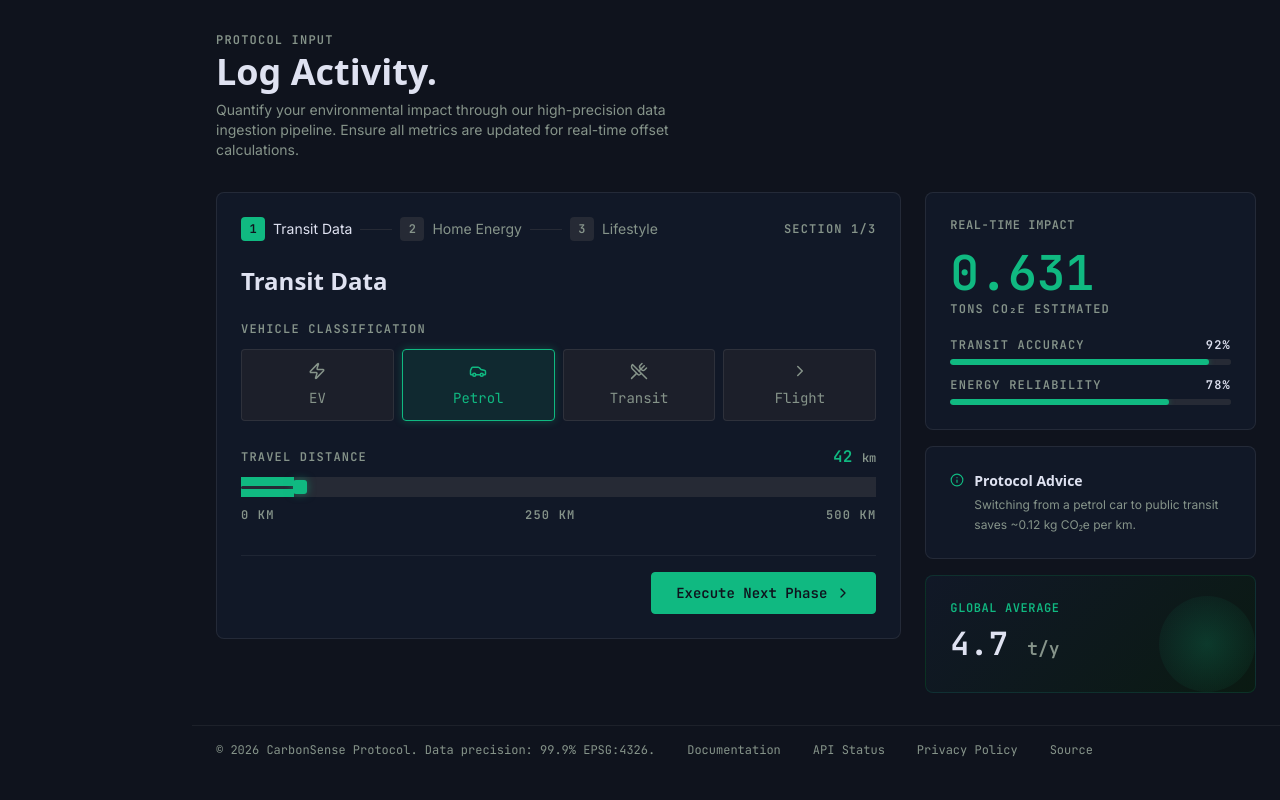
Scenario: ActivityWizard — Transit slider integration › changing transit slider updates the Real-Time Impact preview block
This screenshot has width=1280, height=800.
Expected: the text "0.631" is shown, [950, 241, 1094, 304]
Set slider to 0
Set the slider named "log daily transit distance" to "0" at x=249, y=487, box [241, 477, 876, 497]
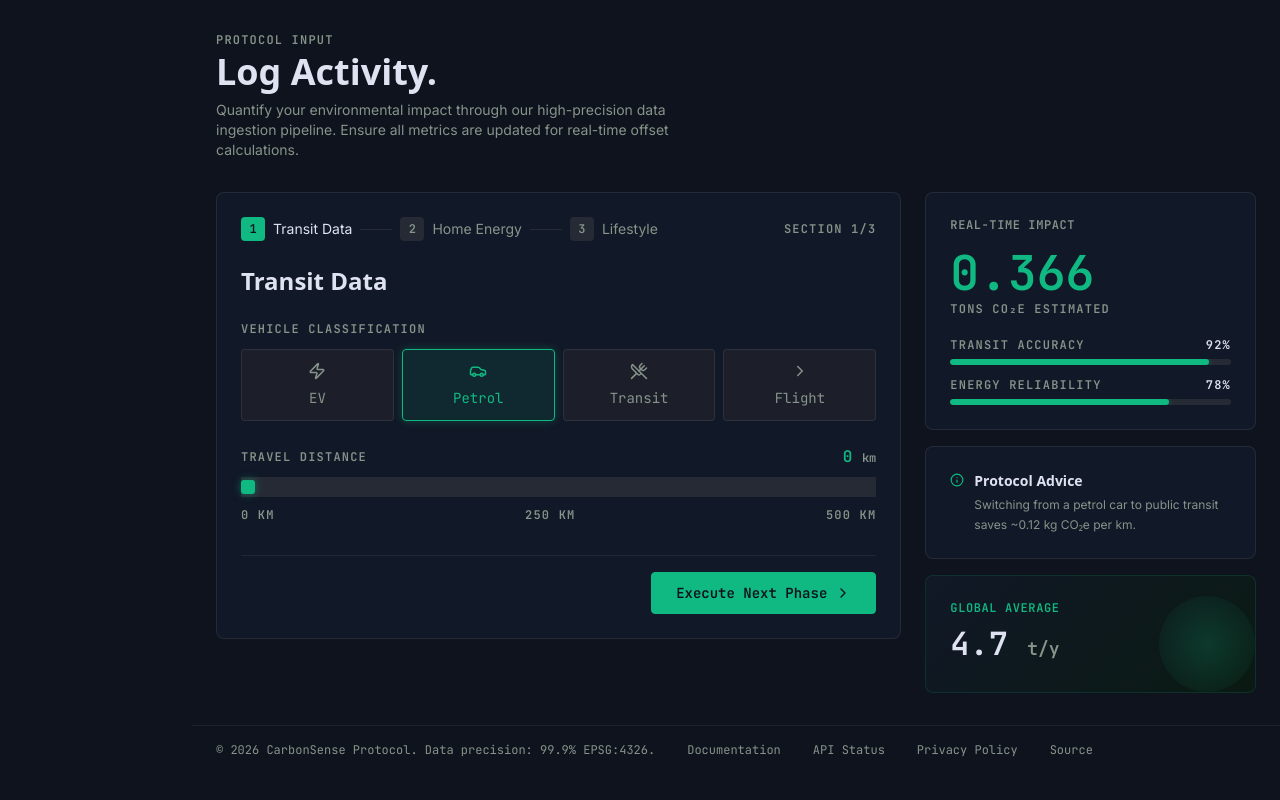
Expected: the text "0.366" is shown, [950, 241, 1094, 304]
